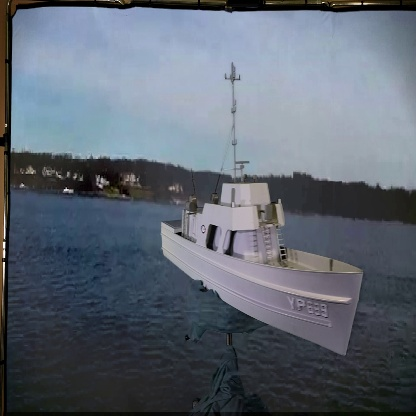YP689: (160, 67, 363, 358)
